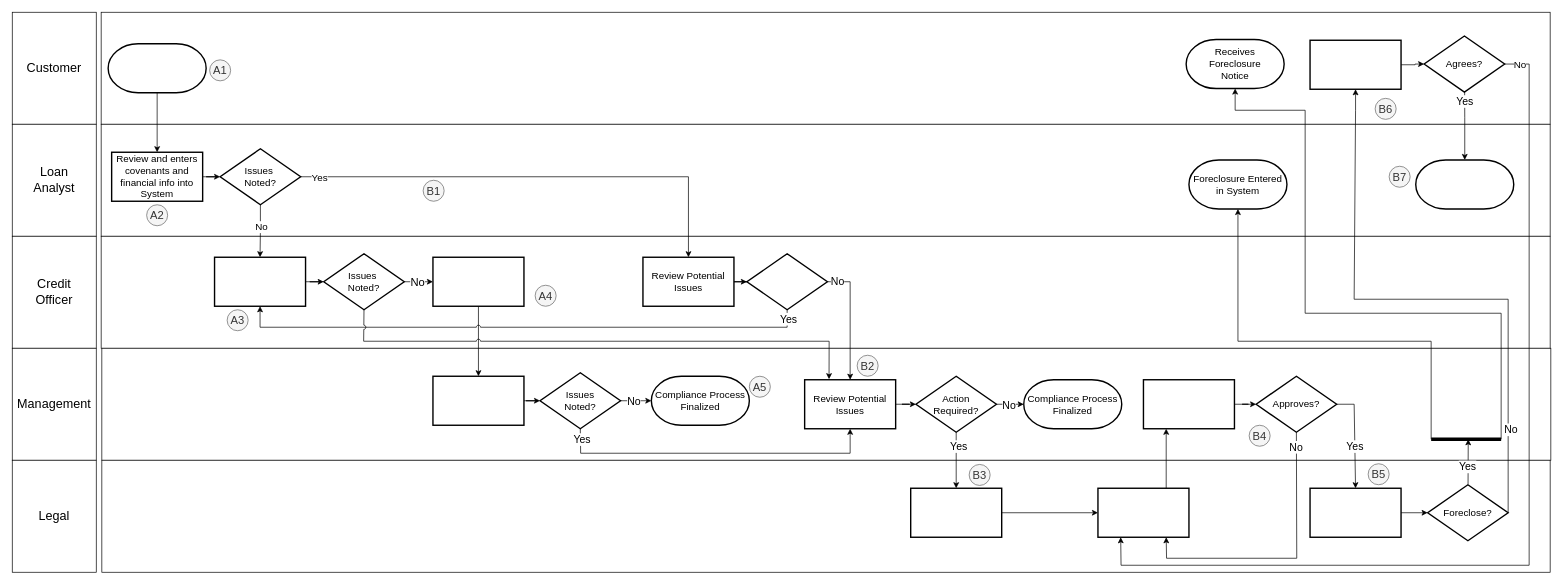
This 1563x585 diagram has some shape labels left out. The shapes that lost their labels are listed below. From the top down, each one's centre as x and y in pixels, then its label:
At point (156, 68): "Submits financial package".
At point (1355, 64): "Reviews Amendment or Remedy".
At point (1464, 184): "Enters Amendment Terms in System".
At point (260, 281): "Views in Dashboard During Standard Procedures".
At point (478, 281): "Writes Commentary and Analysis".
At point (787, 281): "Issue Cleared?".
At point (478, 400): "Reviews Commentary and Analysis".
At point (1188, 404): "Reviews Solution".
At point (956, 512): "Reviews Issues".
At point (1143, 512): "Formulates Solution".
At point (1355, 512): "Drafts Amendment or Remedy".
